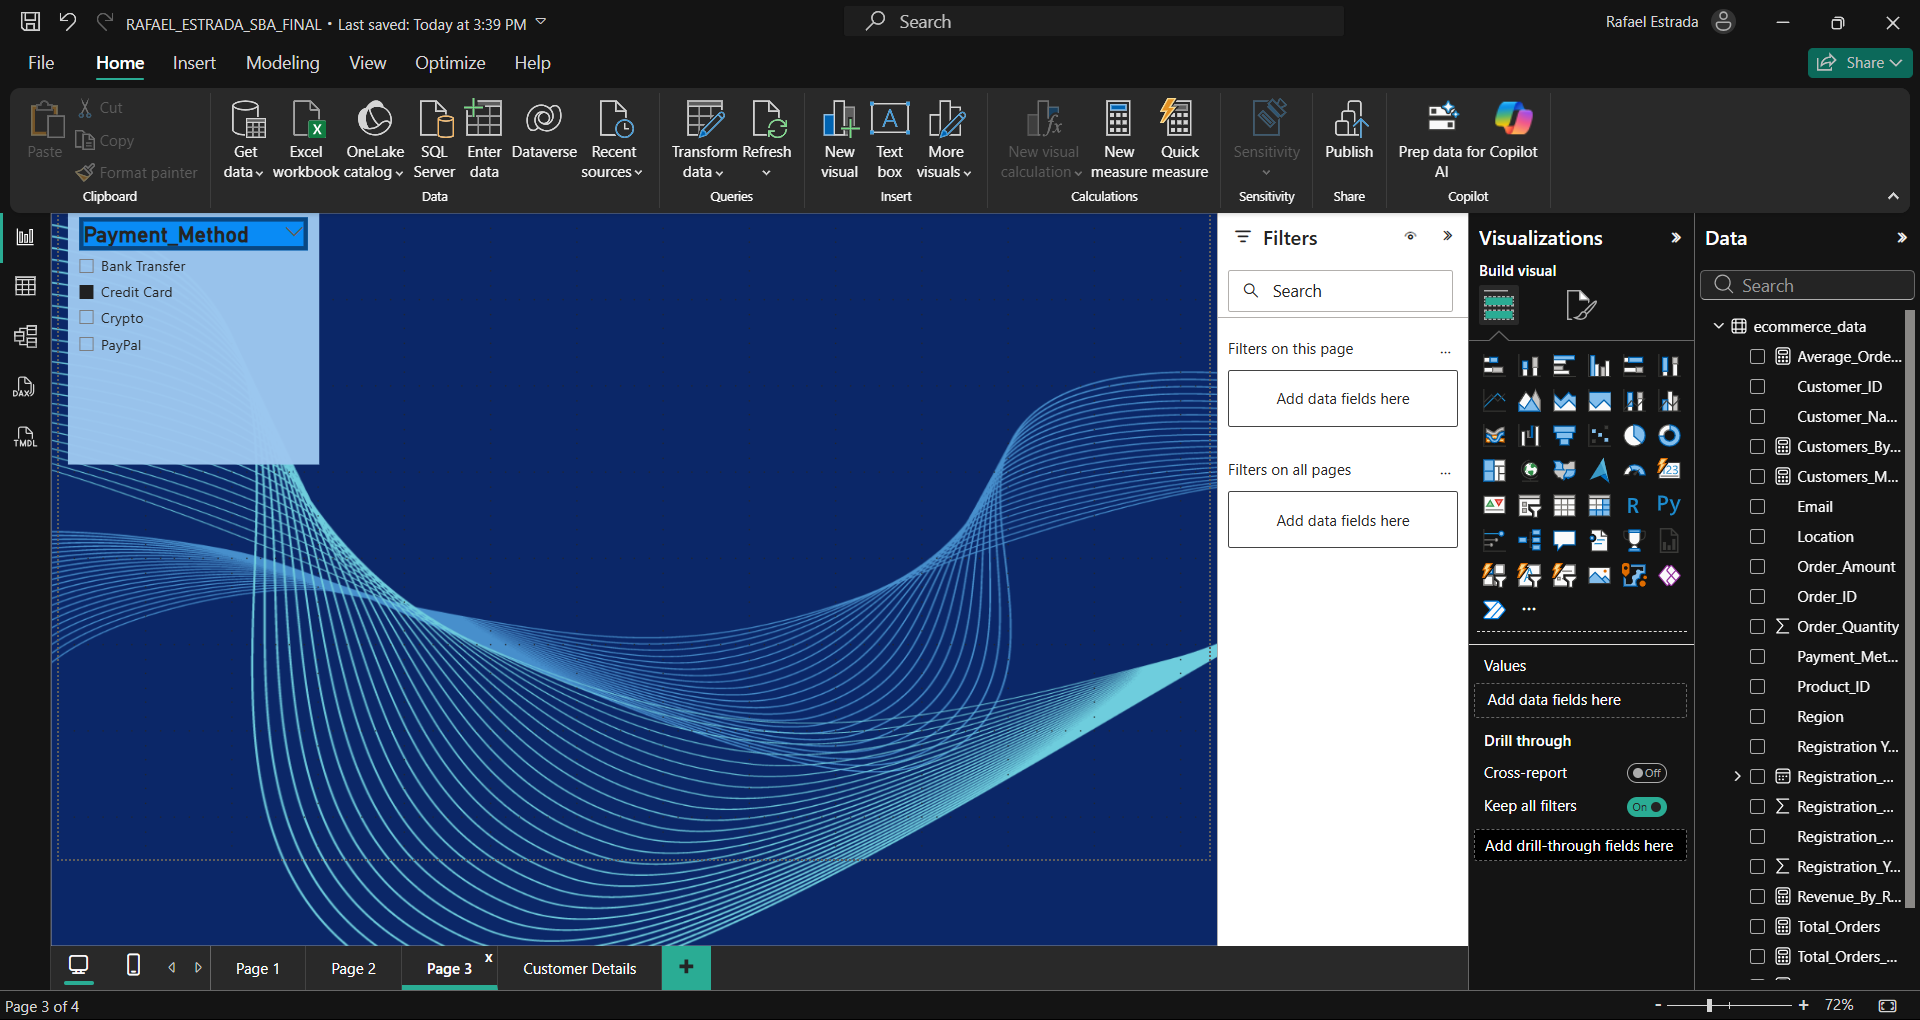

Layout of this report page (visuals, bound fields, positions):
{"tool":"powerbi","page":{"name":"Page 3","canvas":[1280,720],"ordinal":2},"visuals":[{"type":"slicer","fields":{"Values":["ecommerce_data.Payment_Method"]},"box":[10,0,280,280],"z":0}]}

Visuals, with their boxes on the page's 1280x720 design canvas (x1, y1, x2, y2). These are canvas units, not pixel positions in the 1920x1020 screenshot, which may show the page scaled, cropped or inside an application window:
slicer - ecommerce_data.Payment_Method: region(10, 0, 290, 280)
